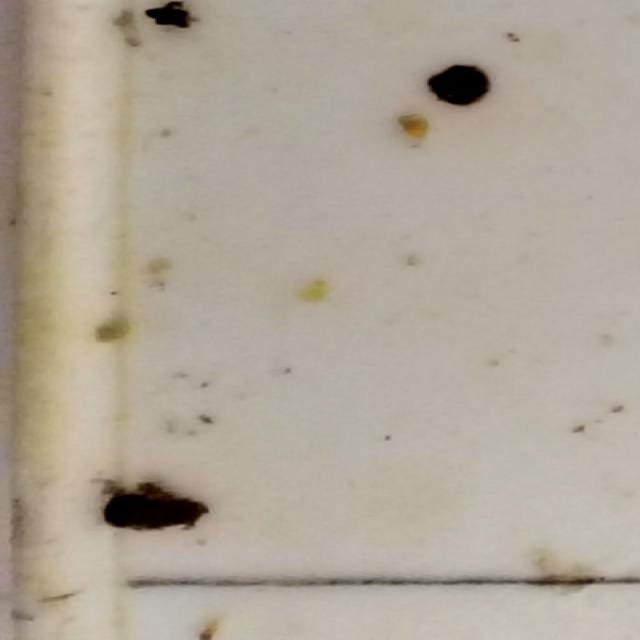varroa: (98, 493, 215, 530), (429, 63, 494, 109)
